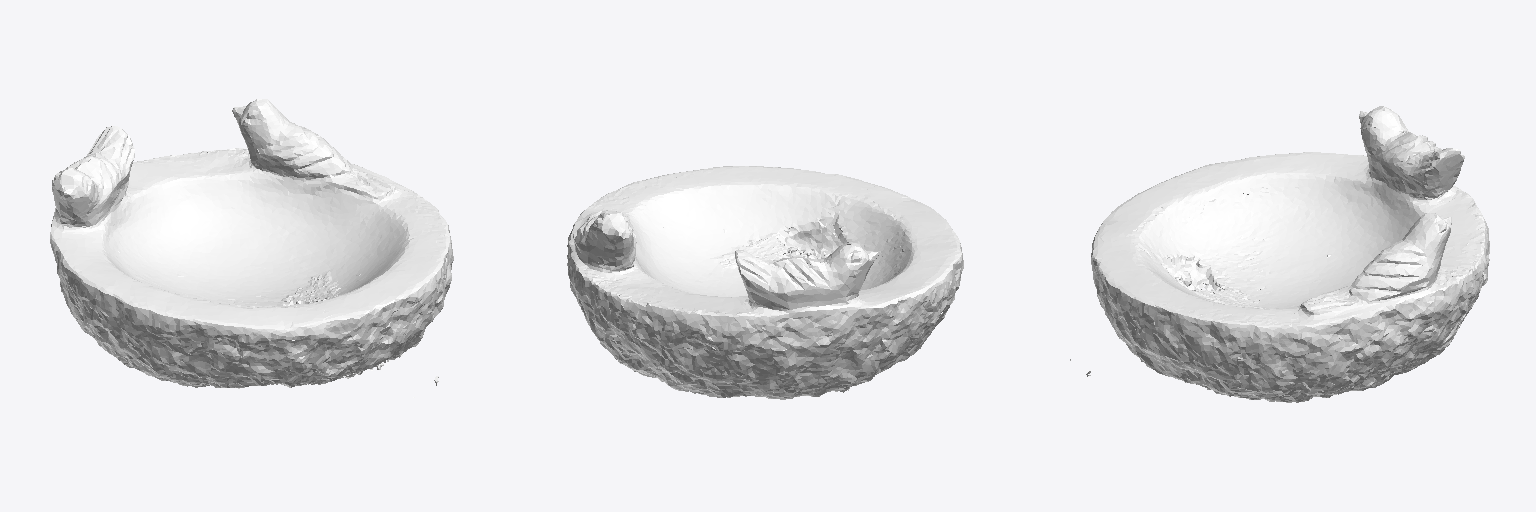
Rendered from birdBath_small.obj.
The picture shows the model from 3 angles: view 1: azimuth 30°, elevation 25°; view 2: azimuth 150°, elevation 25°; view 3: azimuth 270°, elevation 25°; orthographic projection.
Parts seen in each view (by area): view 1: birdBath_small; view 2: birdBath_small; view 3: birdBath_small.
Boxes of the visible parts, x1,y1,x2,y2 form: birdBath_small: [50, 99, 453, 397]; birdBath_small: [567, 166, 963, 399]; birdBath_small: [1070, 106, 1489, 402].
Bounding box in the file's own units: 1.83 × 0.8293 × 1.9.